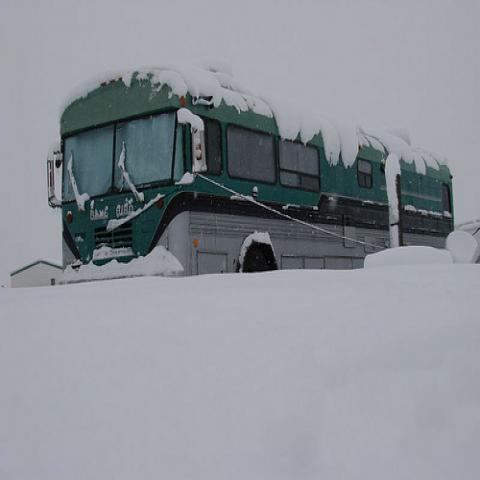bus: (47, 63, 456, 278)
